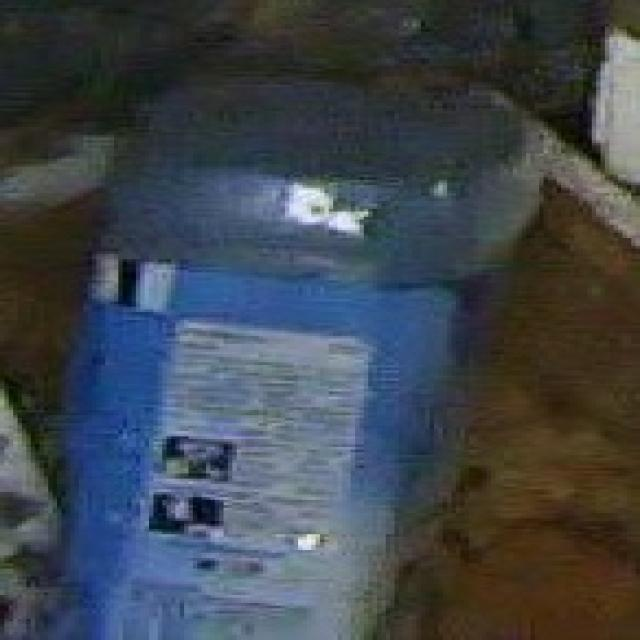litter: (75, 61, 482, 640)
